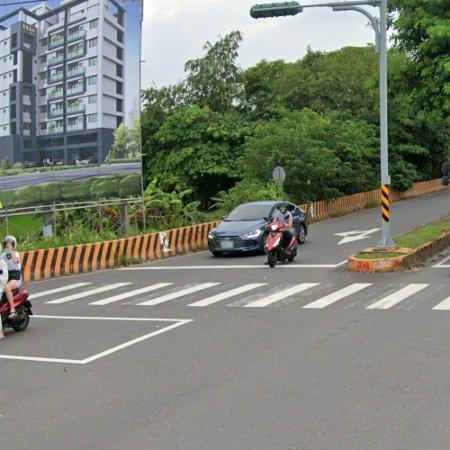crosswalks: (31, 279, 450, 310)
